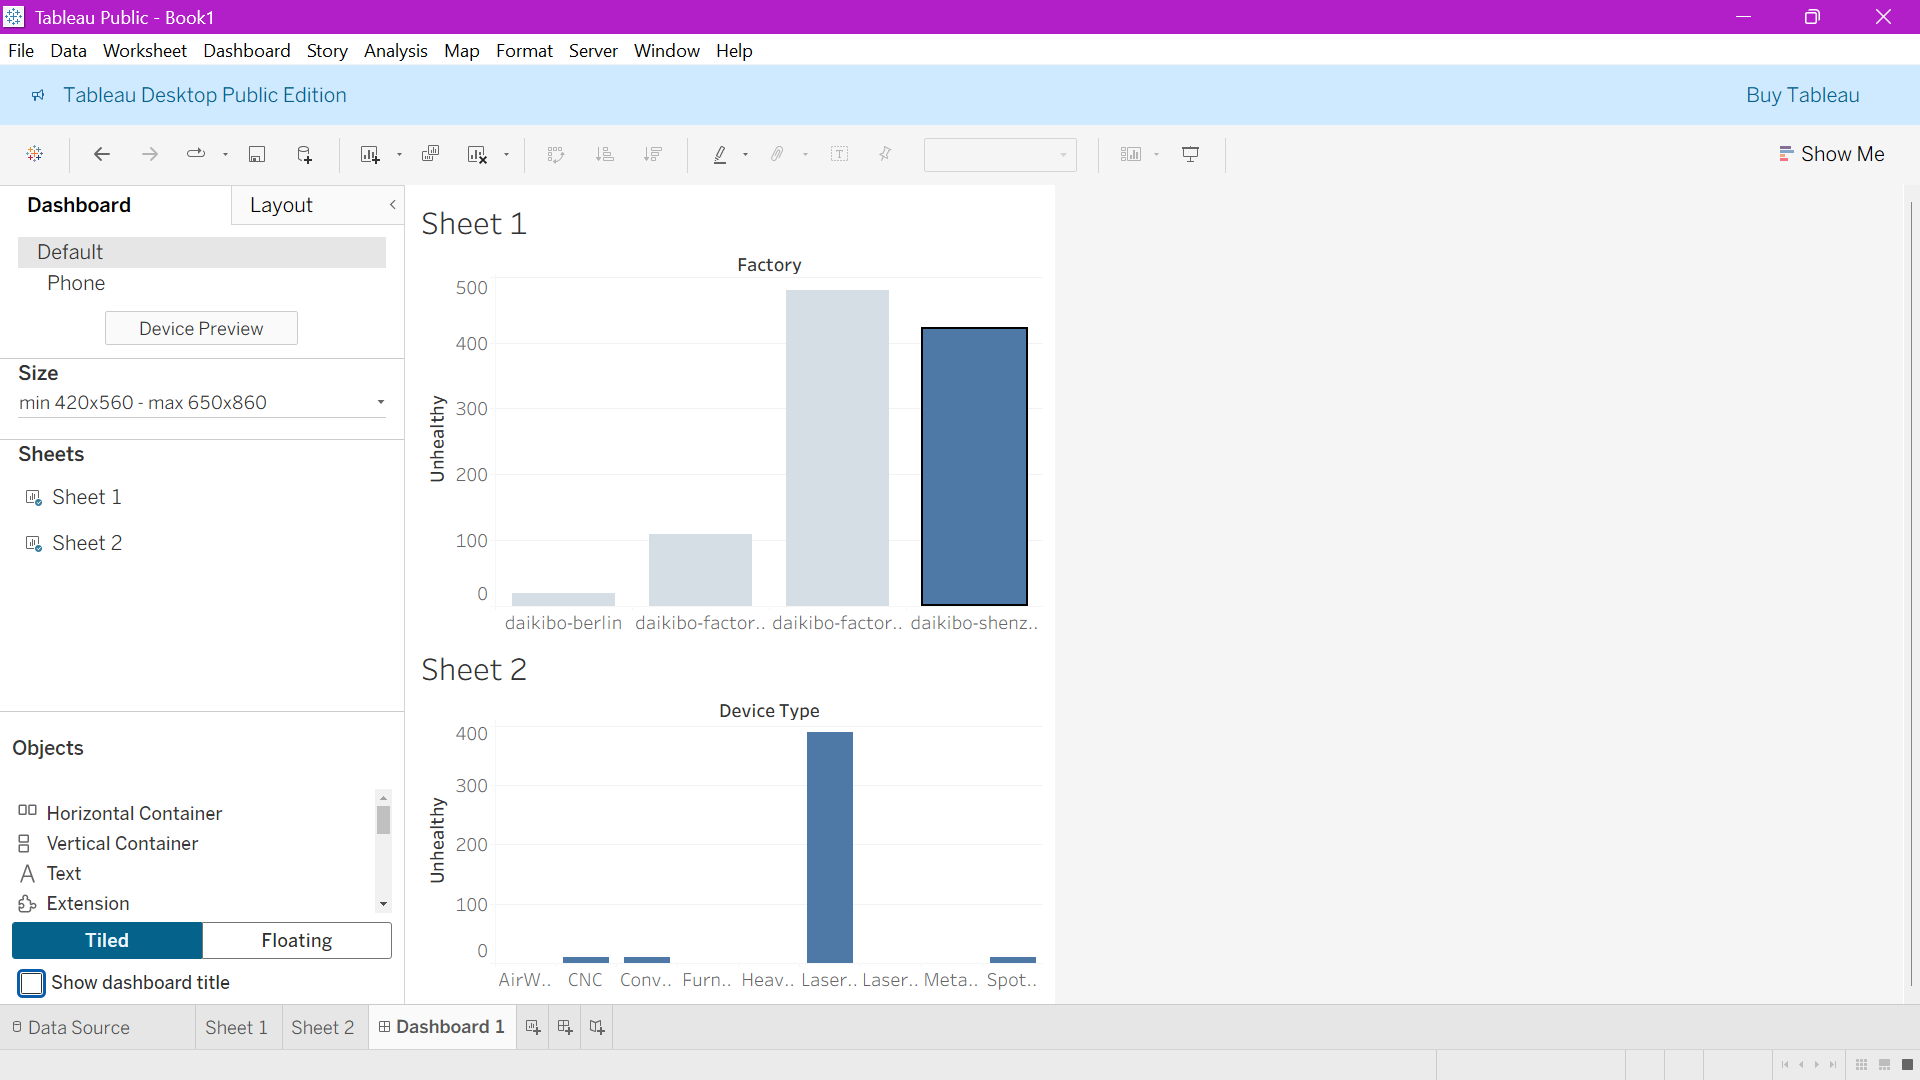

Layout of this report page (visuals, bound fields, positions):
{"tool":"tableau","page":{"name":"Dashboard 1","canvas":[650,860],"ordinal":0},"visuals":[{"type":"worksheet","title":"Sheet 1","mark":"Automatic","rows":["Calculation_1682375970684575744"],"cols":["factory"],"box":[8,8.4,634,421.6]},{"type":"worksheet","title":"Sheet 2","mark":"Automatic","rows":["Calculation_1682375970684575744"],"cols":["deviceType"],"box":[8,430,634,421.6]}]}

Visuals, with their boxes on the page's 650x860 design canvas (x1, y1, x2, y2). These are canvas units, not pixel positions in the 1920x1080 screenshot, which may show the page scaled, cropped or inside an application window:
"Sheet 1" worksheet: bbox=[8, 8, 642, 430]
"Sheet 2" worksheet: bbox=[8, 430, 642, 852]
